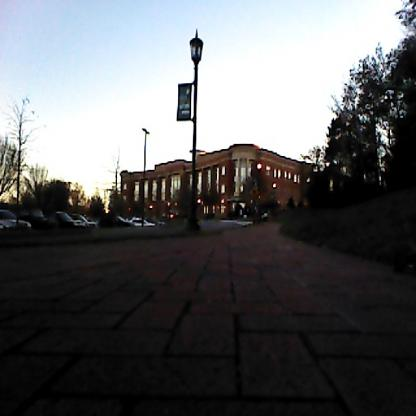Edge: (287, 232, 416, 295)
Sidewalk: (0, 223, 416, 416)
